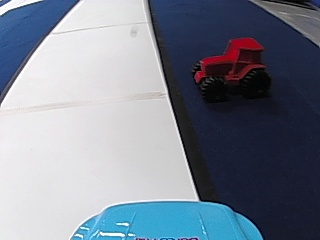tractor: (191, 34, 272, 103)
